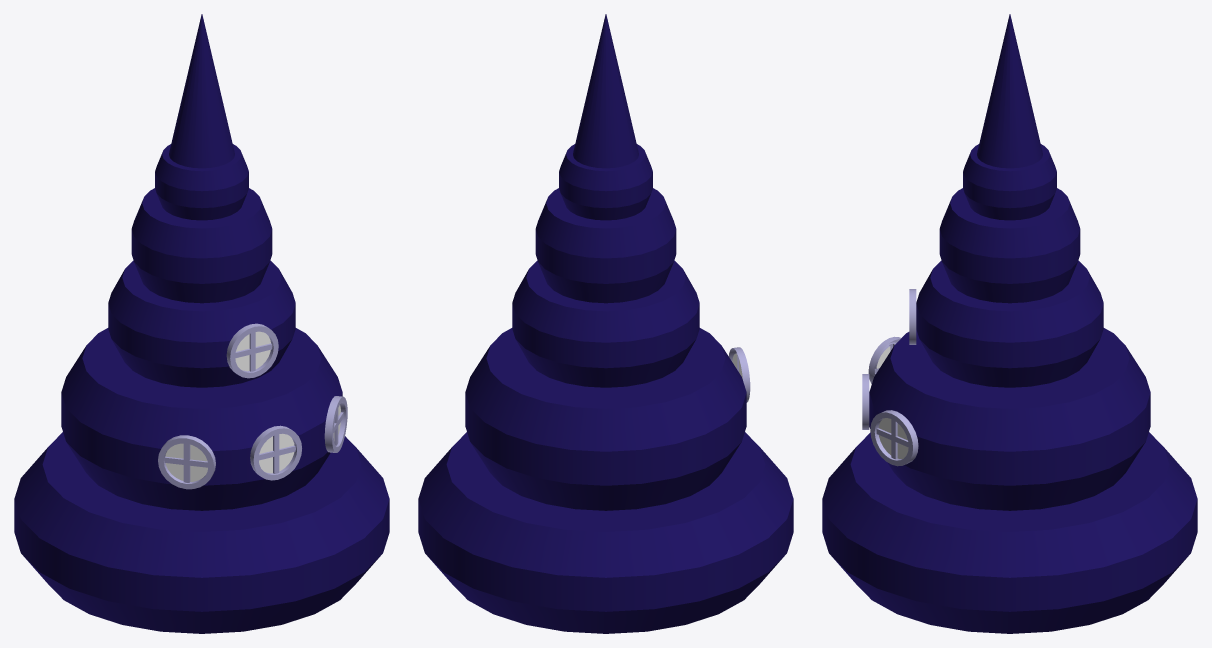
Rendered from house_conch_1.fbx.
The picture shows the model from 3 angles, left to right: view 1: azimuth 30°, elevation 25°; view 2: azimuth 150°, elevation 25°; view 3: azimuth 270°, elevation 25°; orthographic projection.
Parts seen in each view (by area): view 1: mergedBlocks; view 2: mergedBlocks; view 3: mergedBlocks.
Boxes of the visible parts, x1,y1,x2,y2 form: mergedBlocks: [14, 14, 389, 633]; mergedBlocks: [418, 14, 793, 633]; mergedBlocks: [822, 14, 1197, 633].
Bounding box in the file's own units: 57.6 × 93.6 × 57.6.
